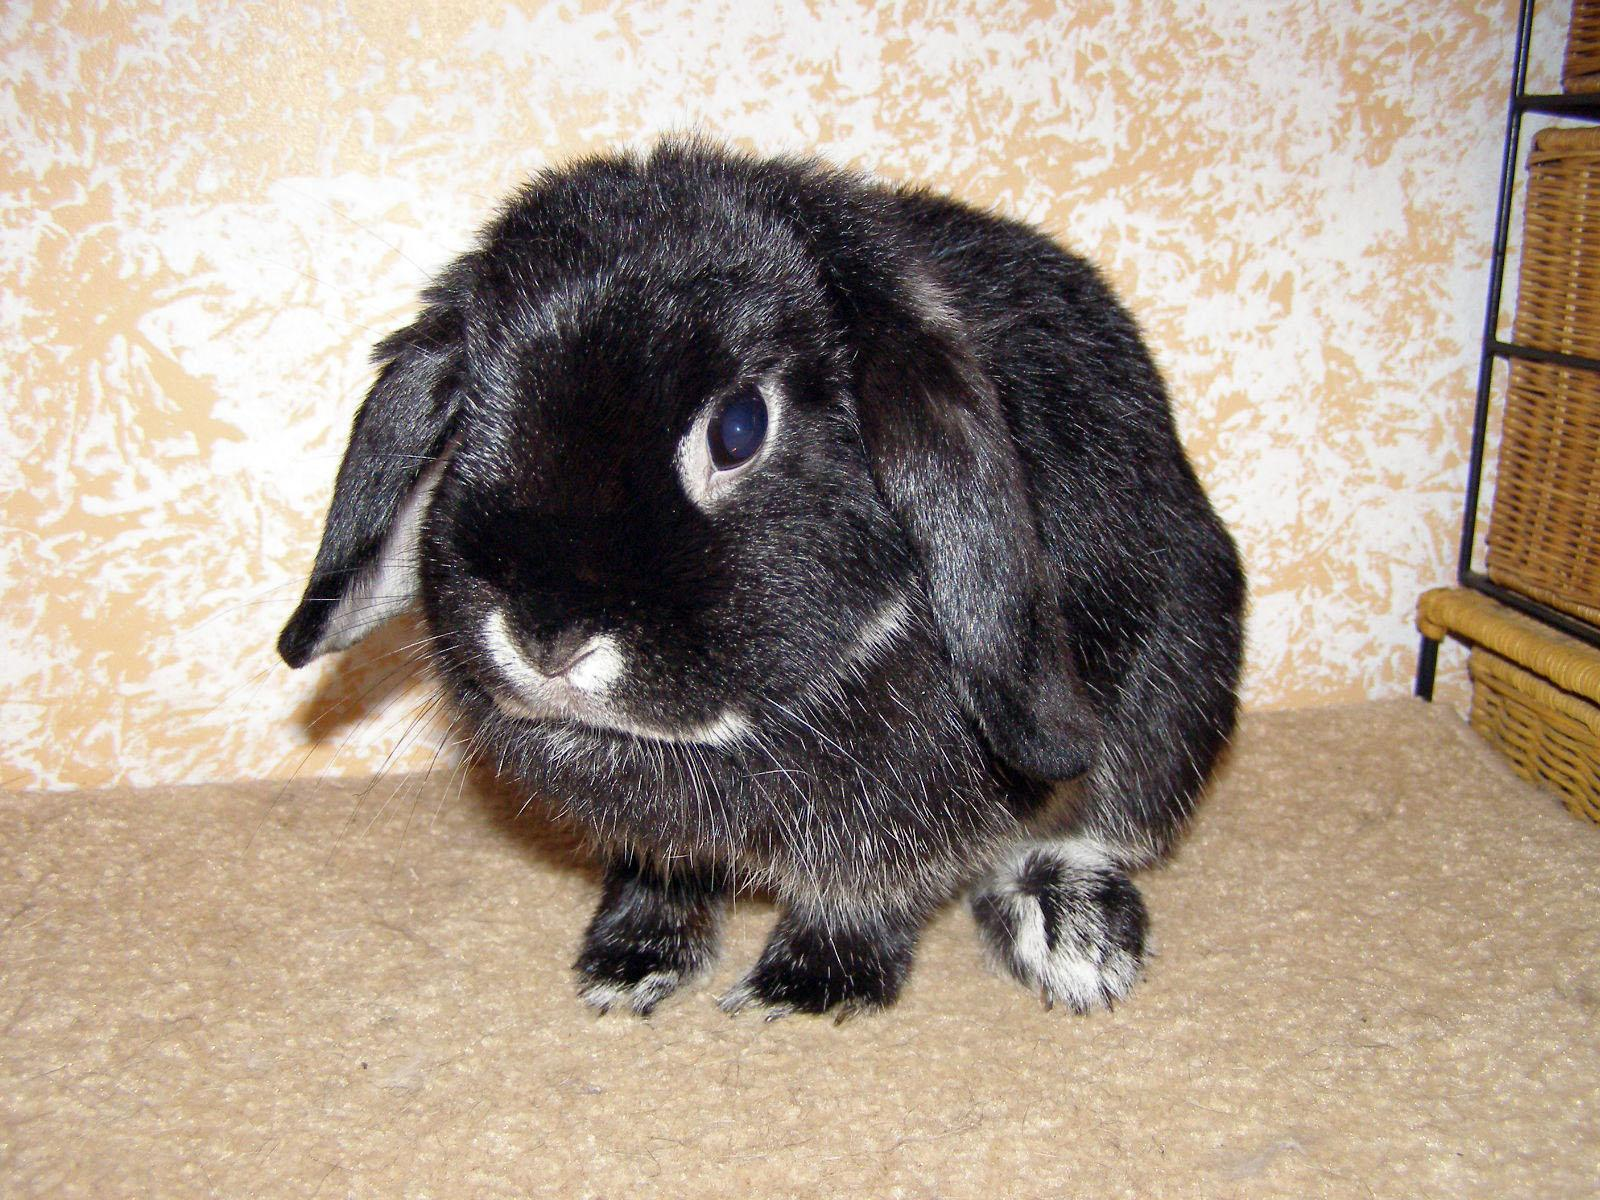bunny: (229, 116, 1289, 1089)
